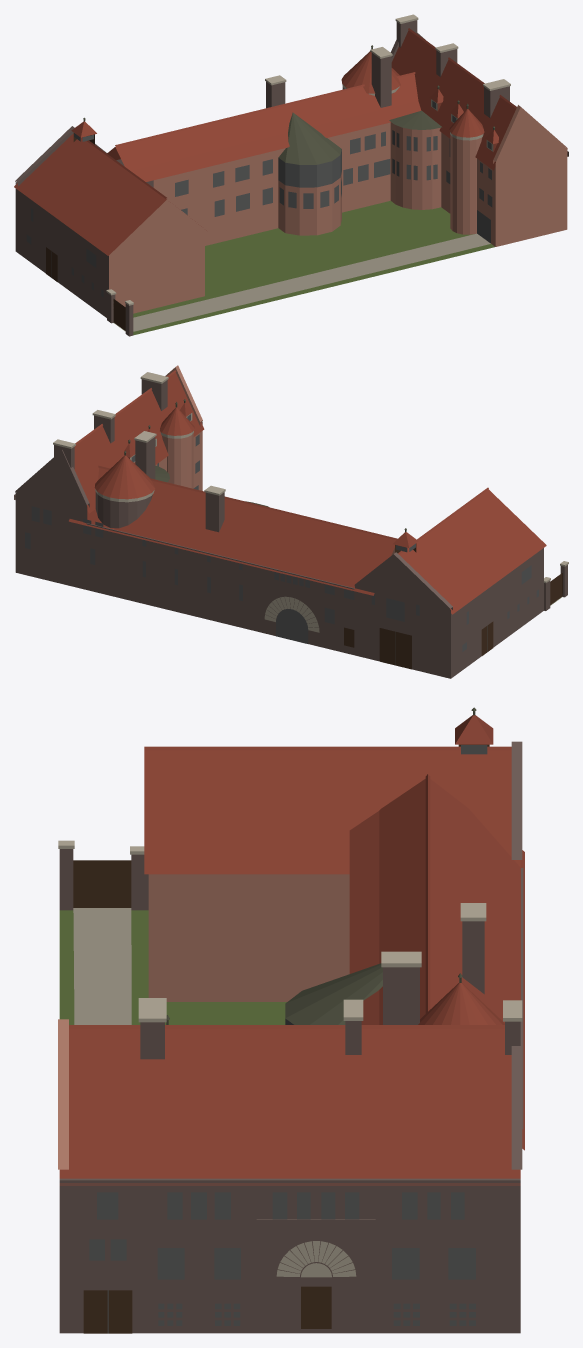
Rendered from glessner_house__as_built_1887.glb.
The picture shows the model from 3 angles, top to bottom: view 1: azimuth 30°, elevation 25°; view 2: azimuth 150°, elevation 25°; view 3: azimuth 270°, elevation 25°; orthographic projection. The views are drawn at different scales.
Visible parts, largest first — view 1: glessner_house__as_built_1887; view 2: glessner_house__as_built_1887; view 3: glessner_house__as_built_1887.
Part boxes in pixels (bbox=[...]): glessner_house__as_built_1887: bbox=[14, 14, 568, 336]; glessner_house__as_built_1887: bbox=[14, 365, 568, 678]; glessner_house__as_built_1887: bbox=[58, 707, 524, 1333].
Bounding box in the file's own units: 49.64 × 15.08 × 22.83.
